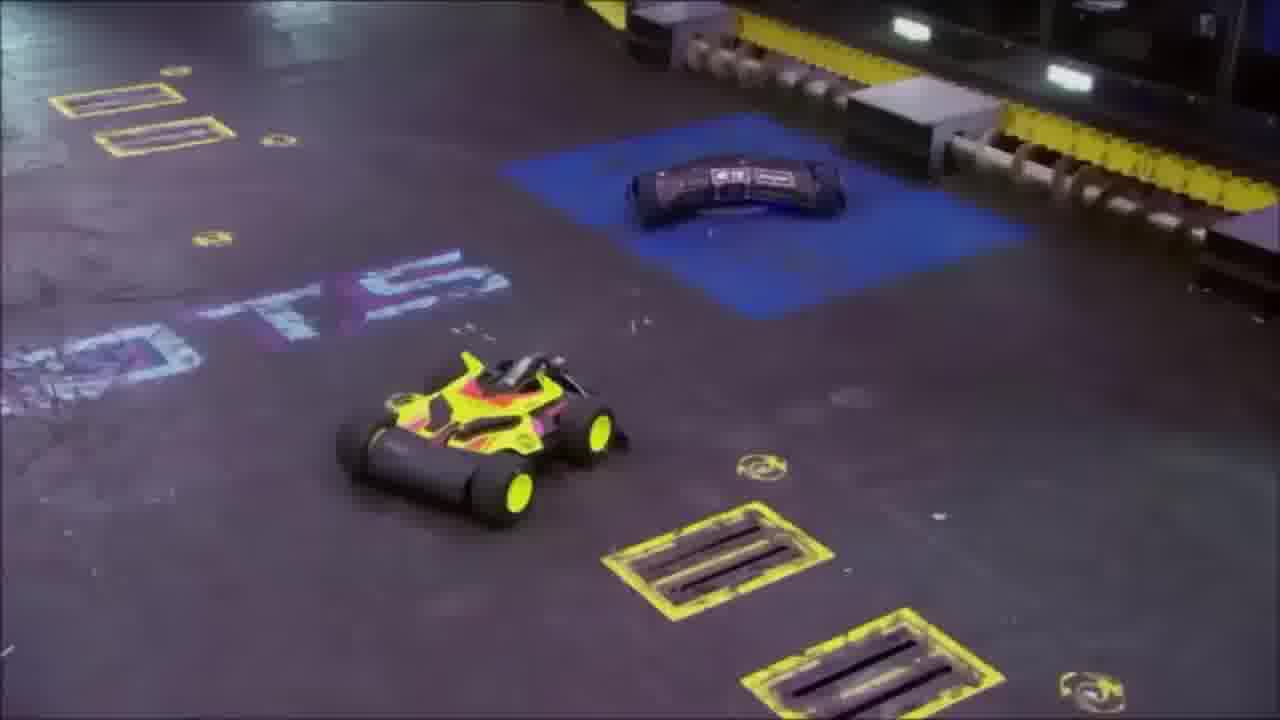combatbot: (334, 348, 633, 531), (627, 142, 844, 238)
